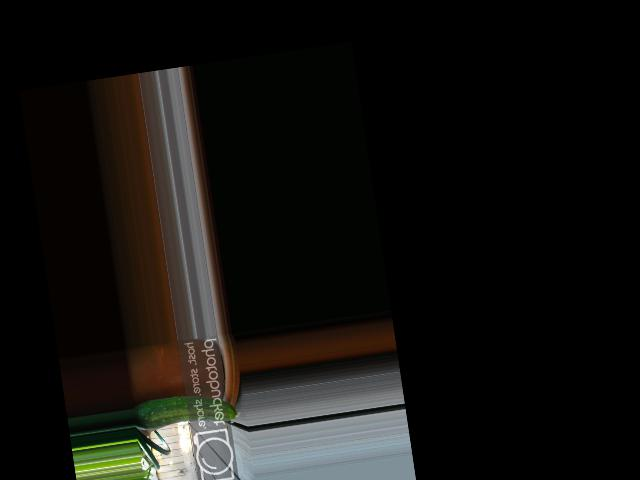cucumber: (132, 387, 242, 434)
